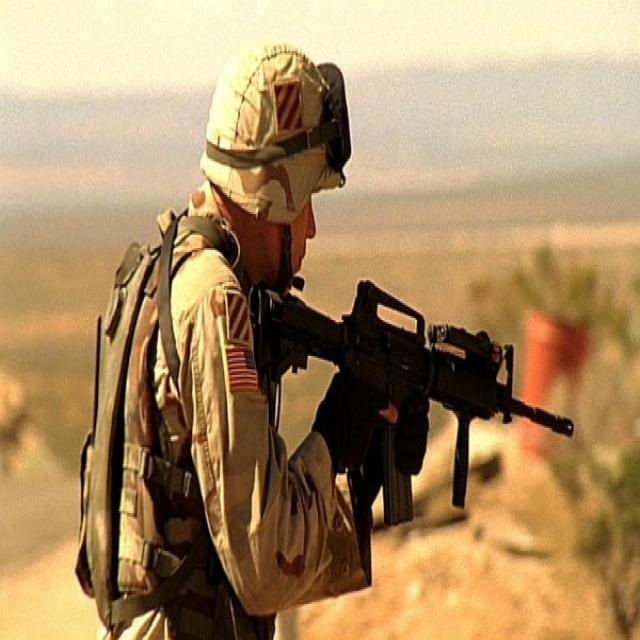rifle: (249, 272, 583, 540)
